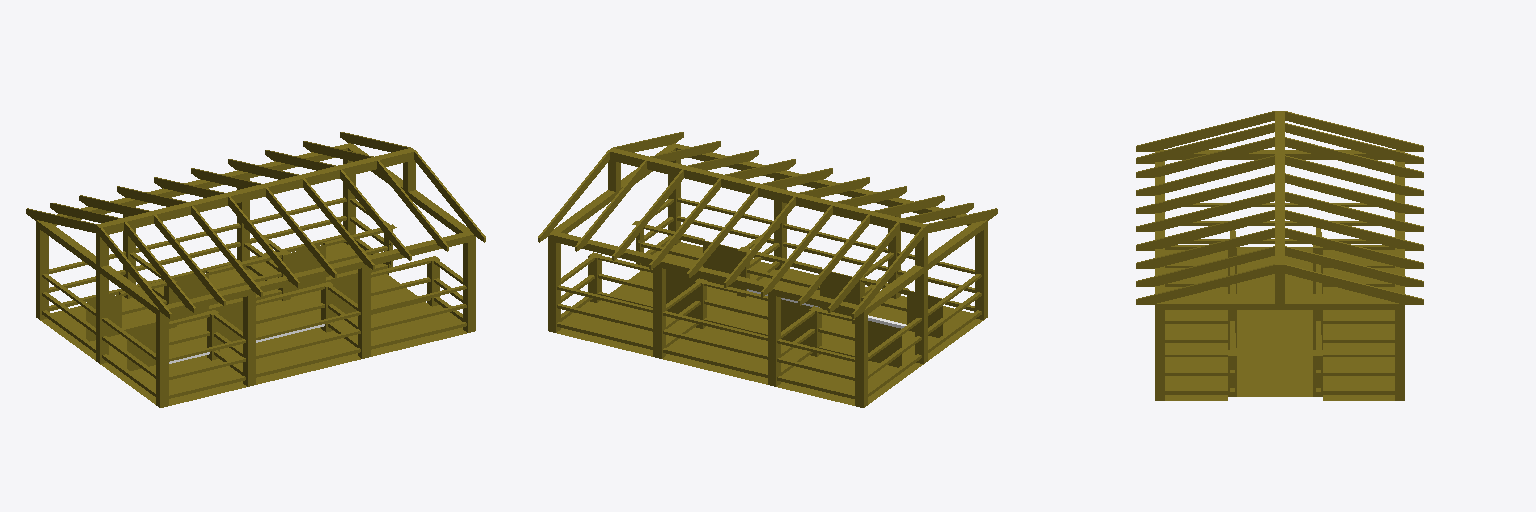
The model's file is casa2.obj.
3 views of the same model, side by side, from view 1: azimuth 30°, elevation 25°; view 2: azimuth 150°, elevation 25°; view 3: azimuth 270°, elevation 25° (orthographic).
Visible parts, largest first — view 1: Mesh1 Model; view 2: Mesh1 Model; view 3: Mesh1 Model.
Boxes of the visible parts, box(x1,y1,x2,y2) form: Mesh1 Model: box(26, 132, 485, 407); Mesh1 Model: box(538, 132, 997, 407); Mesh1 Model: box(1136, 111, 1423, 400).
Size of the model in its own units: 306 by 126 by 242.